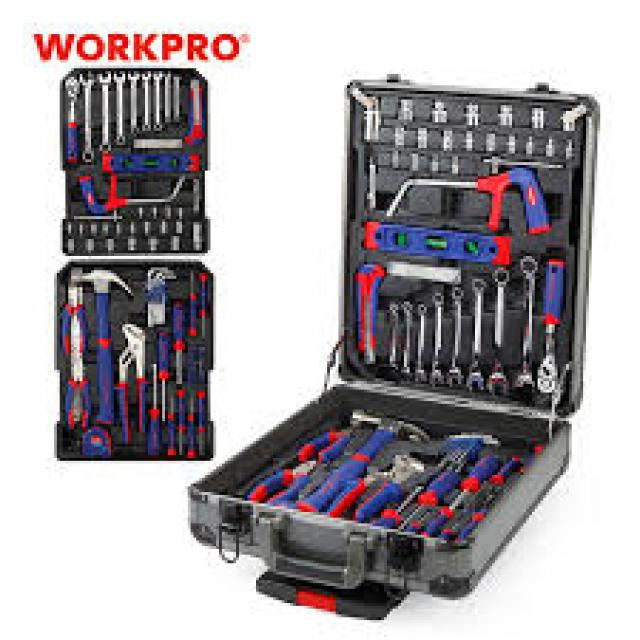tool_box: (176, 79, 604, 606)
